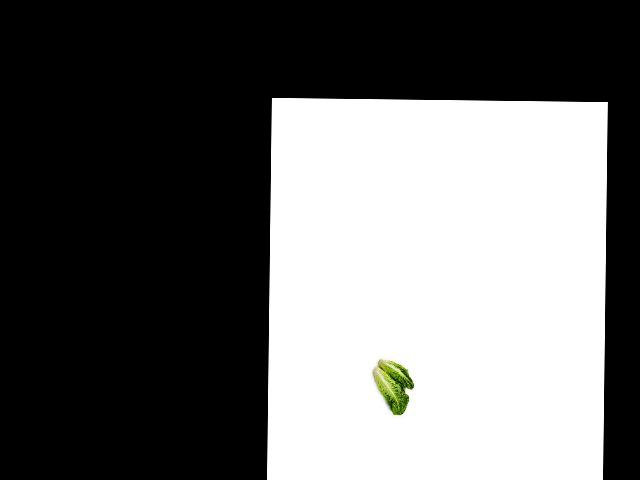lettuce: (369, 370, 410, 415)
